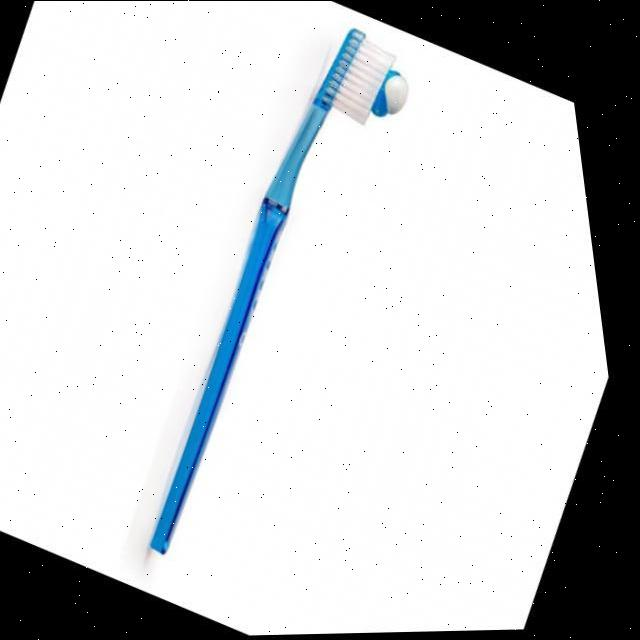toothbrush: (73, 6, 497, 610)
